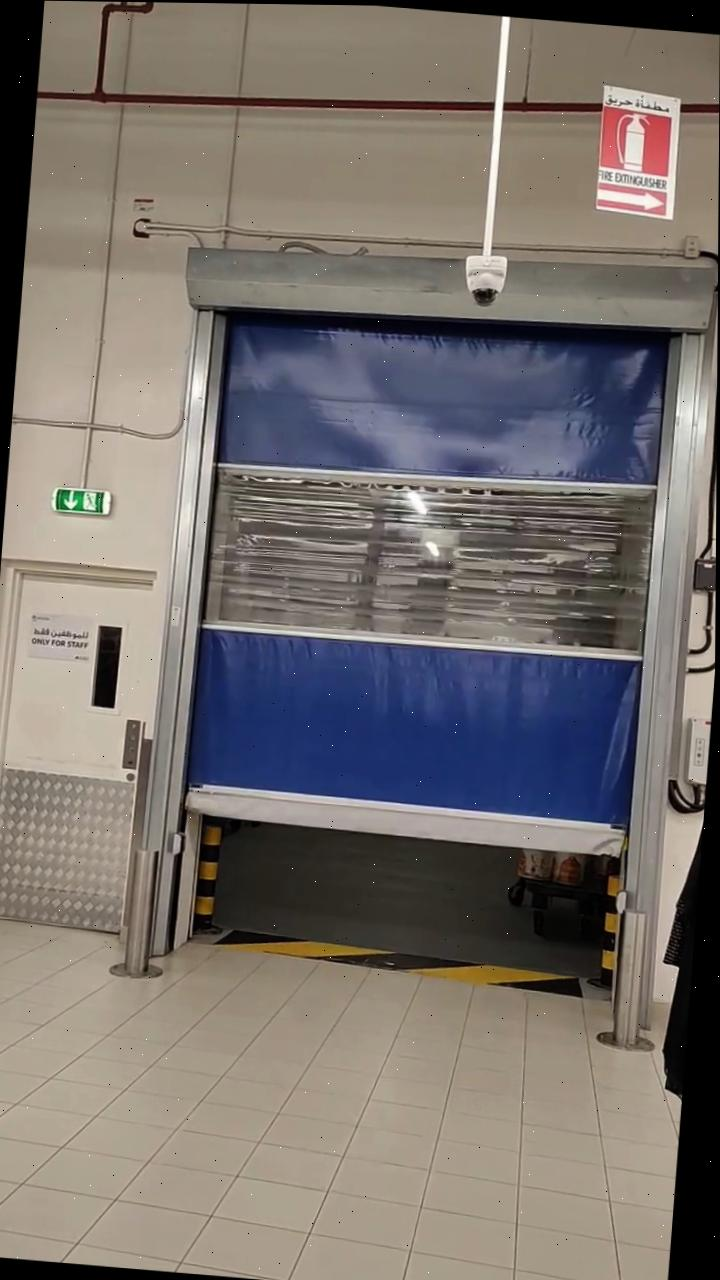Strip: (227, 918, 591, 993)
